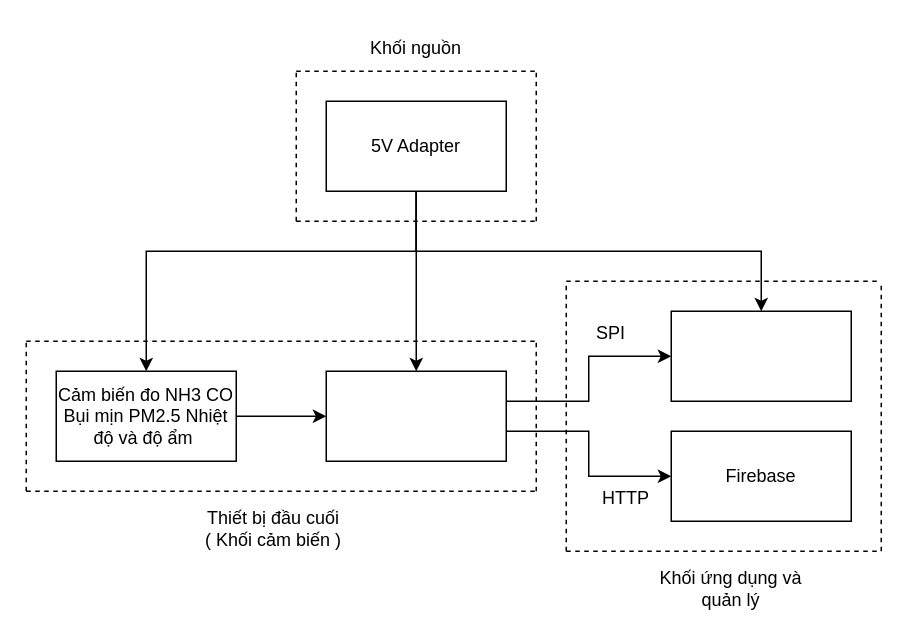
The diagram is 909 pixels wide and 636 high, and some of its shapes have lost their labels. Here are the shapes that lost their labels. From the top down, the centre of each, then its label:
the point at 760,355: Màn hình LCD
the point at 415,415: ESP32
